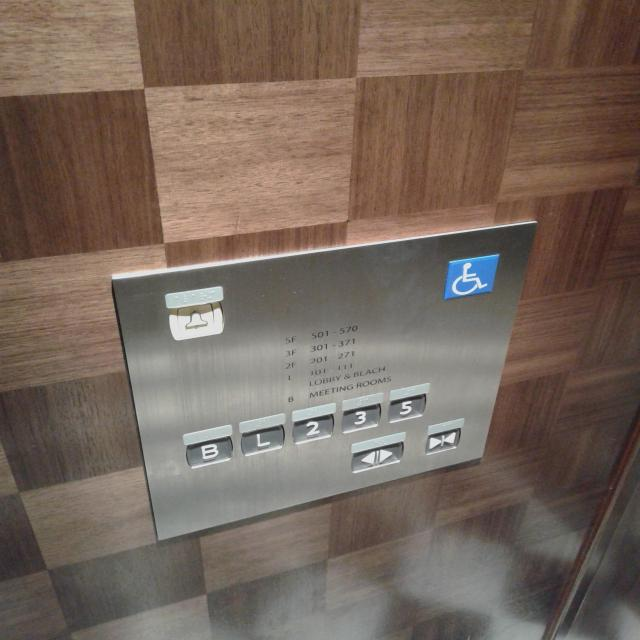2: (289, 400, 337, 446)
3: (339, 390, 383, 434)
5: (386, 381, 430, 424)
B: (180, 424, 235, 471)
CH: (439, 252, 502, 302)
L: (236, 412, 288, 458)
alarm: (162, 284, 229, 343)
close: (422, 416, 465, 456)
open: (348, 430, 407, 474)
